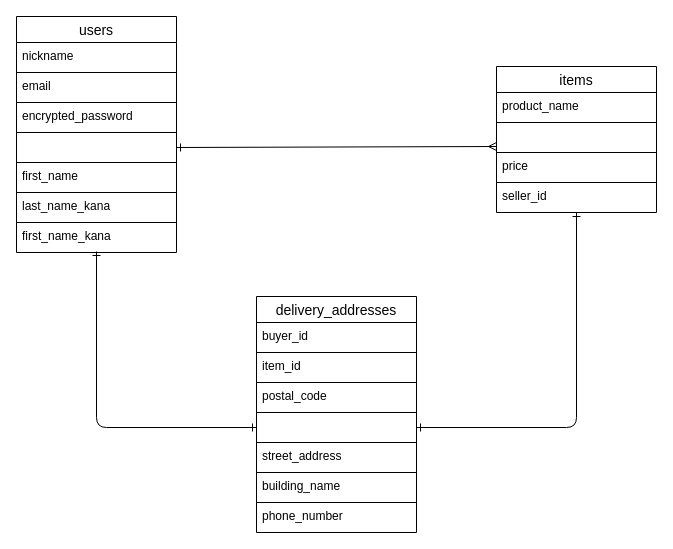
This 673x549 diagram has some shape labels left out. The centre of each missing label's shape, as x and y in pixels:
city: the point at 336,427
last_name: the point at 96,147
product_description: the point at 576,137
